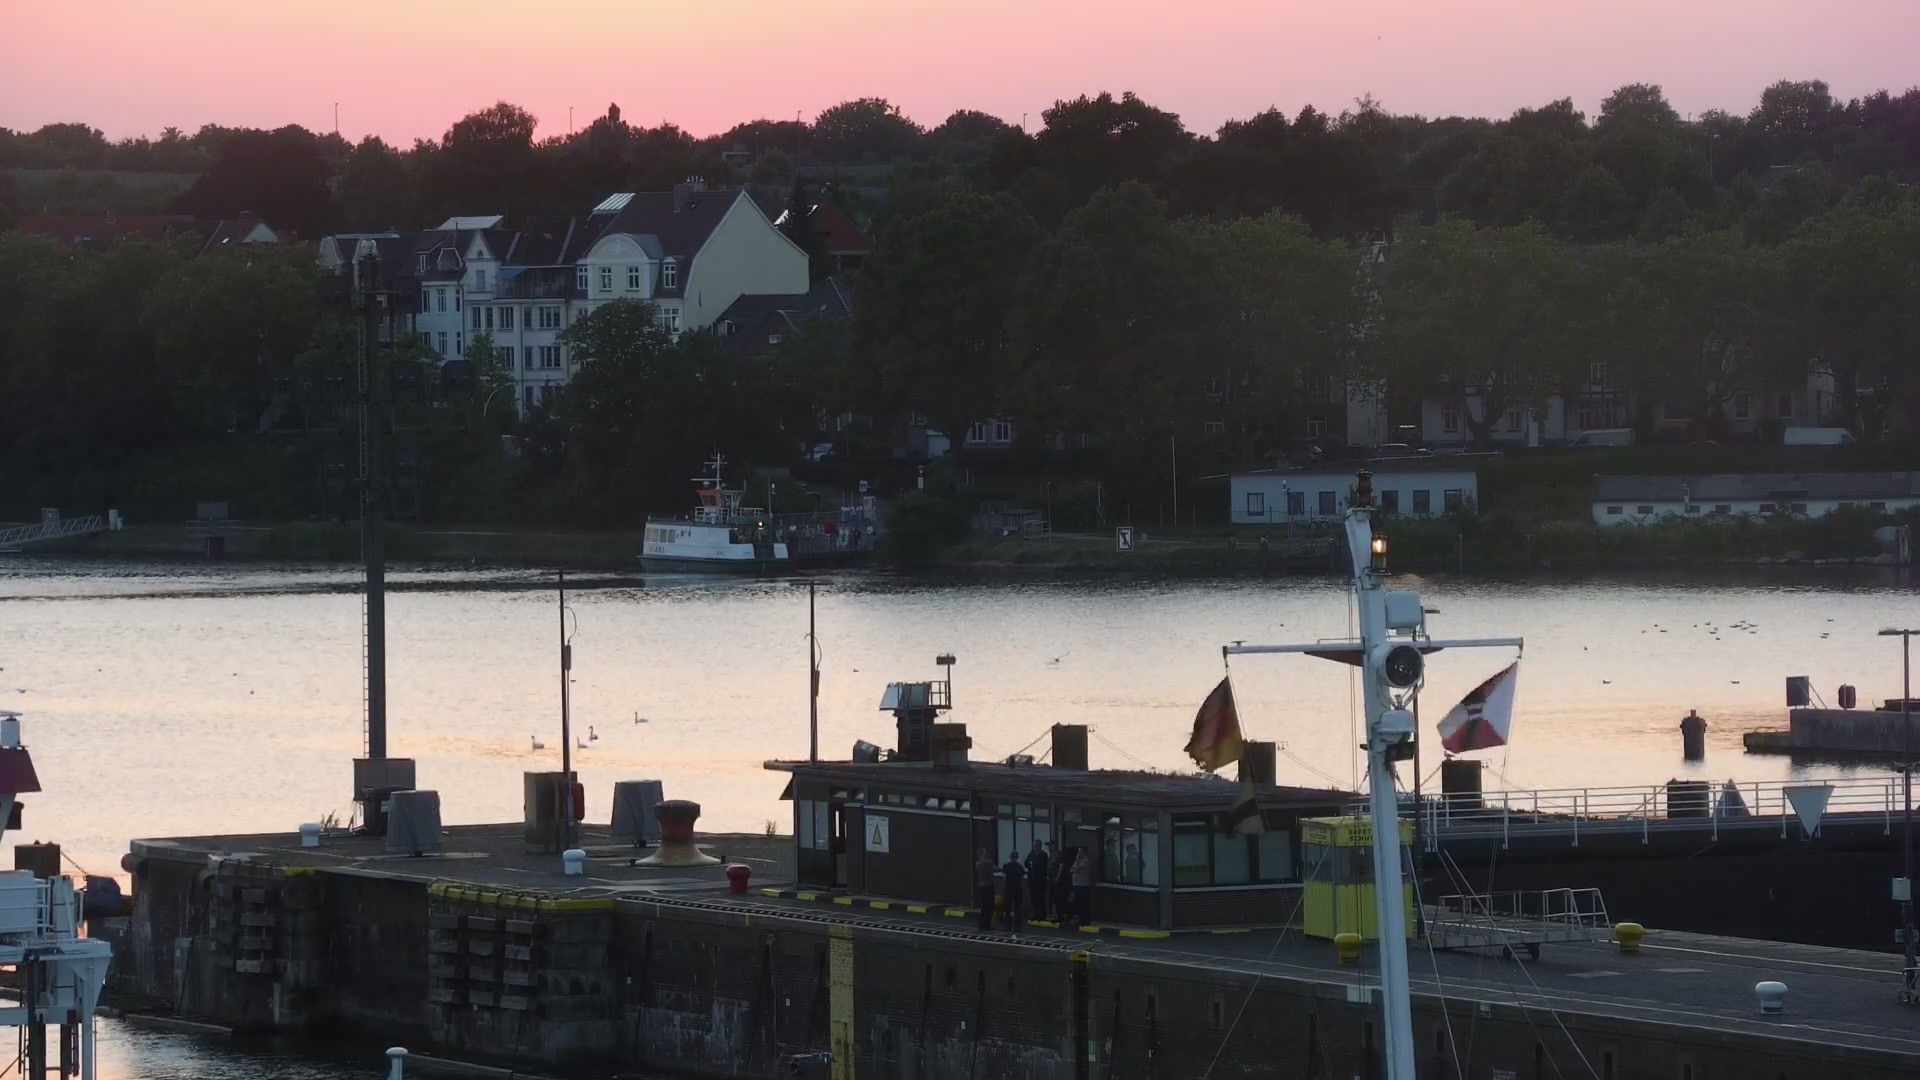human: (1023, 839, 1051, 927), (1042, 837, 1070, 925), (1067, 843, 1094, 926), (1000, 849, 1026, 935), (973, 846, 996, 930), (864, 520, 876, 552), (854, 502, 864, 523)
land: (1781, 423, 1858, 446), (1565, 426, 1637, 449), (1261, 442, 1324, 463), (1374, 441, 1430, 456), (1389, 423, 1424, 443)
sea: (632, 449, 897, 573)
